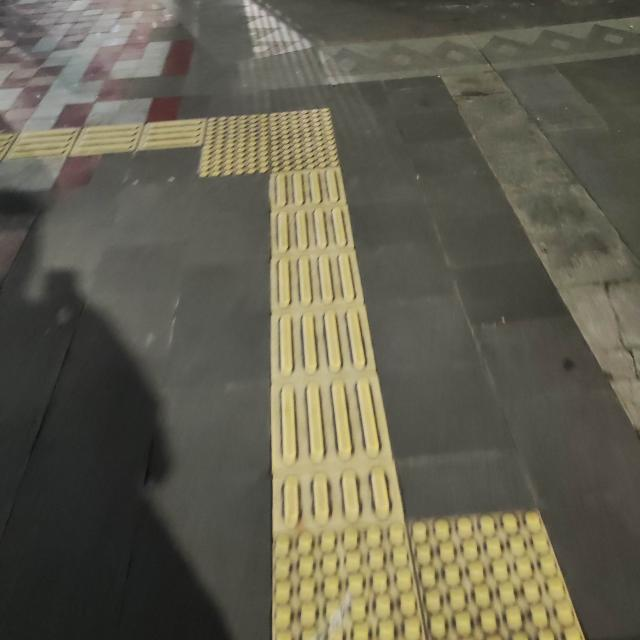kiri: (61, 94, 387, 210)
